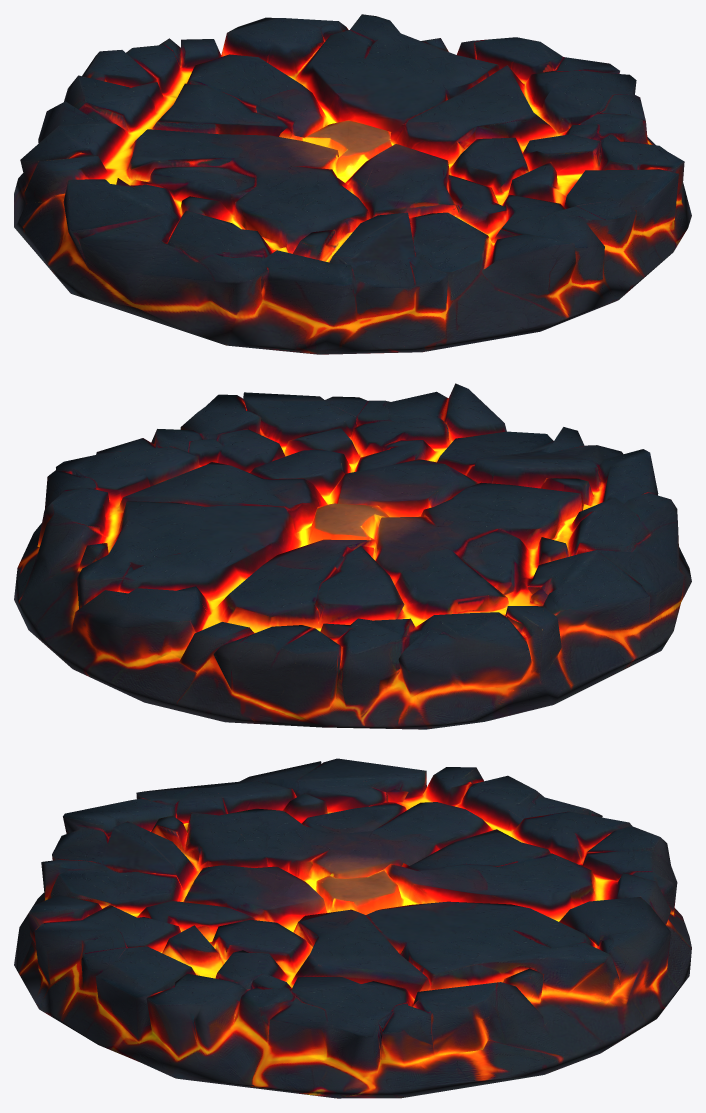
File: prop-embercrack.glb
The picture shows the model from 3 angles, top to bottom: view 1: azimuth 30°, elevation 25°; view 2: azimuth 150°, elevation 25°; view 3: azimuth 270°, elevation 25°; orthographic projection.
Size of the model in its own units: 2 by 0.2445 by 2.
Materials: 1 (1 with a texture image).
